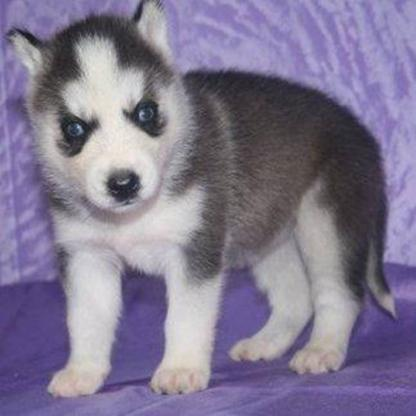husky: (8, 6, 393, 400)
